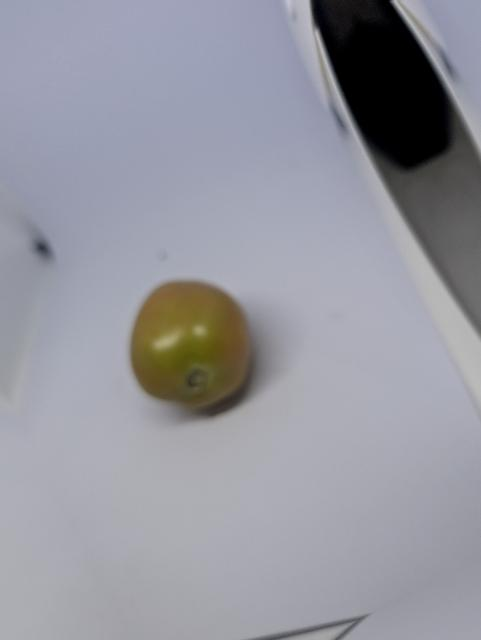breaker: (127, 280, 259, 410)
